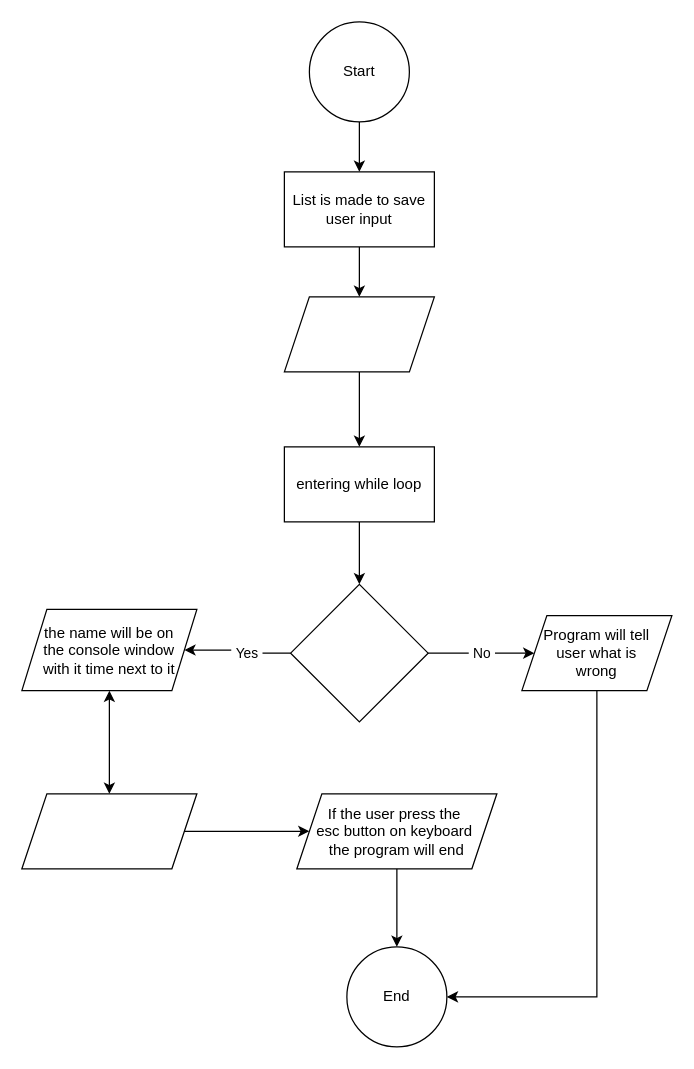
This 694x1069 diagram has some shape labels left out. The shapes that lost their labels are listed below. From the top down, each one's centre as x and y in pixels, then its label:
point (358, 334): ask for user input
point (358, 652): Is there a city with the name given by the user-
point (109, 830): The while loop will kind of refresh it.self after every one second.
